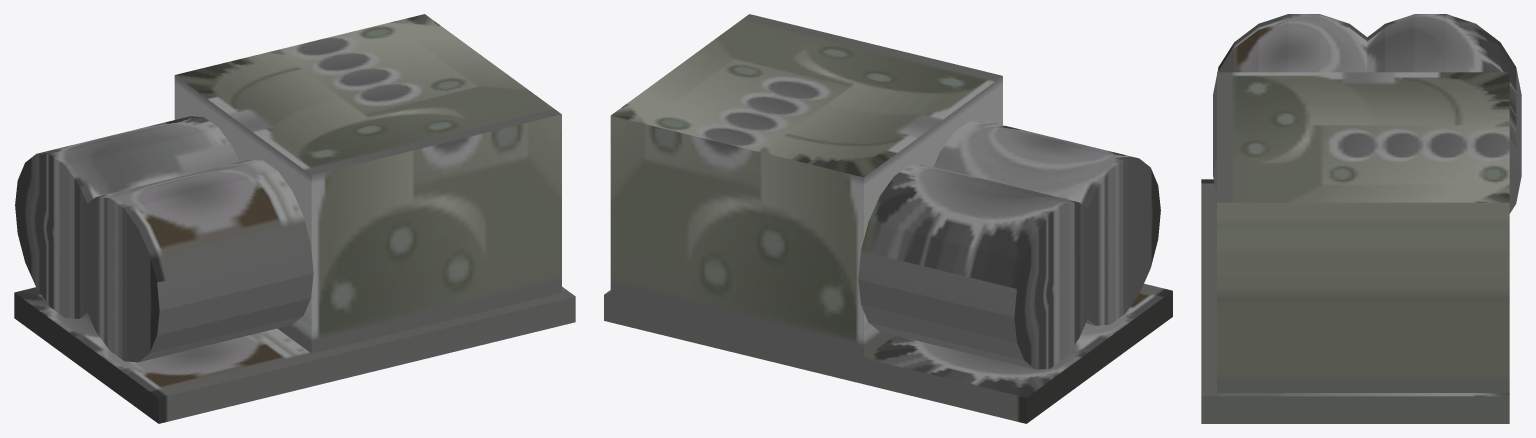
The model's file is Building_Electroharvester.glb.
3 views of the same model, side by side, from view 1: azimuth 30°, elevation 25°; view 2: azimuth 150°, elevation 25°; view 3: azimuth 270°, elevation 25° (orthographic). The views are drawn at different scales.
Visible parts, largest first — view 1: Electroharvester; view 2: Electroharvester; view 3: Electroharvester.
Boxes of the visible parts, bbox=[...] form: Electroharvester: bbox=[14, 14, 575, 423]; Electroharvester: bbox=[604, 14, 1172, 423]; Electroharvester: bbox=[1201, 14, 1521, 423].
Size of the model in its own units: 2.03 by 0.95 by 1.27.
Materials: 1 (1 with a texture image).
